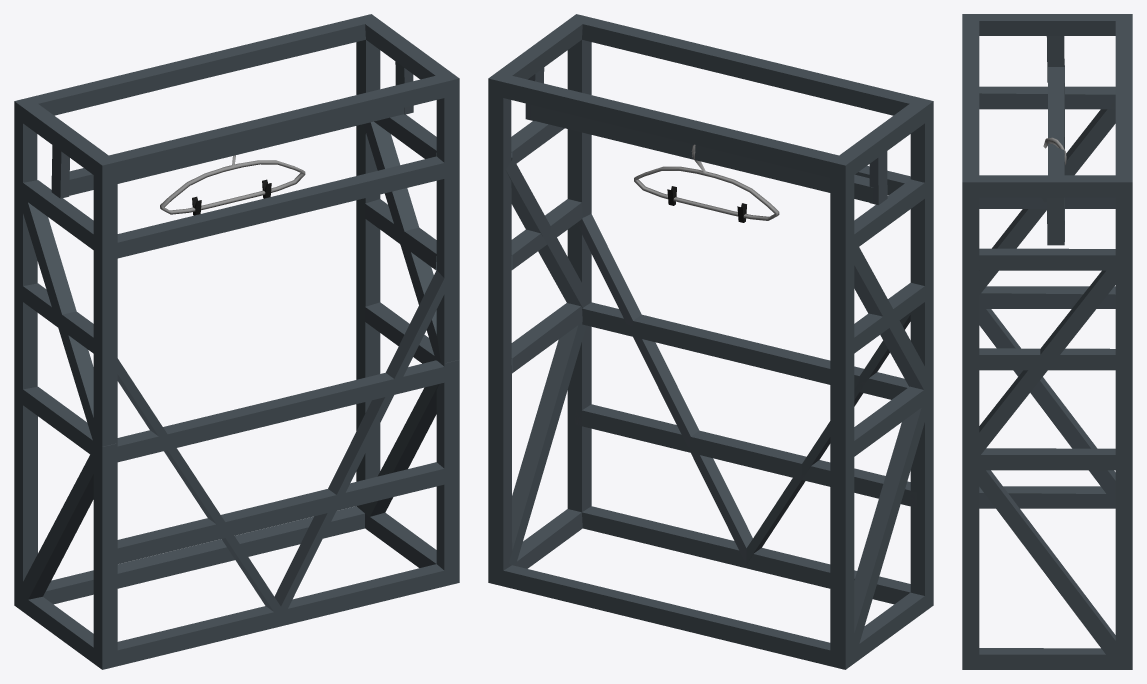
Rendered from shelves.glb.
3 views of the same model, side by side, from view 1: azimuth 30°, elevation 25°; view 2: azimuth 150°, elevation 25°; view 3: azimuth 270°, elevation 25° (orthographic). The views are drawn at different scales.
Visible parts, largest first — view 1: Cube.004, shelf.002; view 2: Cube.004, shelf.002; view 3: Cube.004.
Part boxes in pixels (box(x1,y1,x2,y2)): Cube.004: box(14, 14, 459, 669); shelf.002: box(160, 155, 305, 215); Cube.004: box(488, 14, 933, 669); shelf.002: box(634, 144, 779, 222); Cube.004: box(962, 14, 1132, 669).
Size of what is drawn, in the model's own units: 2 by 2.7 by 0.855.
2 materials, 1 textured.
